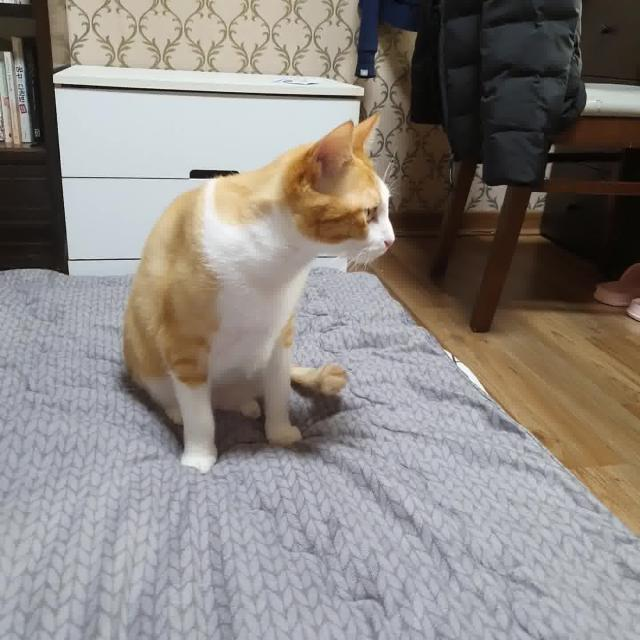cat: (122, 111, 400, 474)
